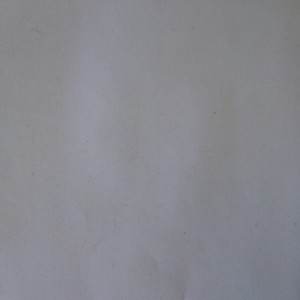base: (1, 1, 298, 299)
